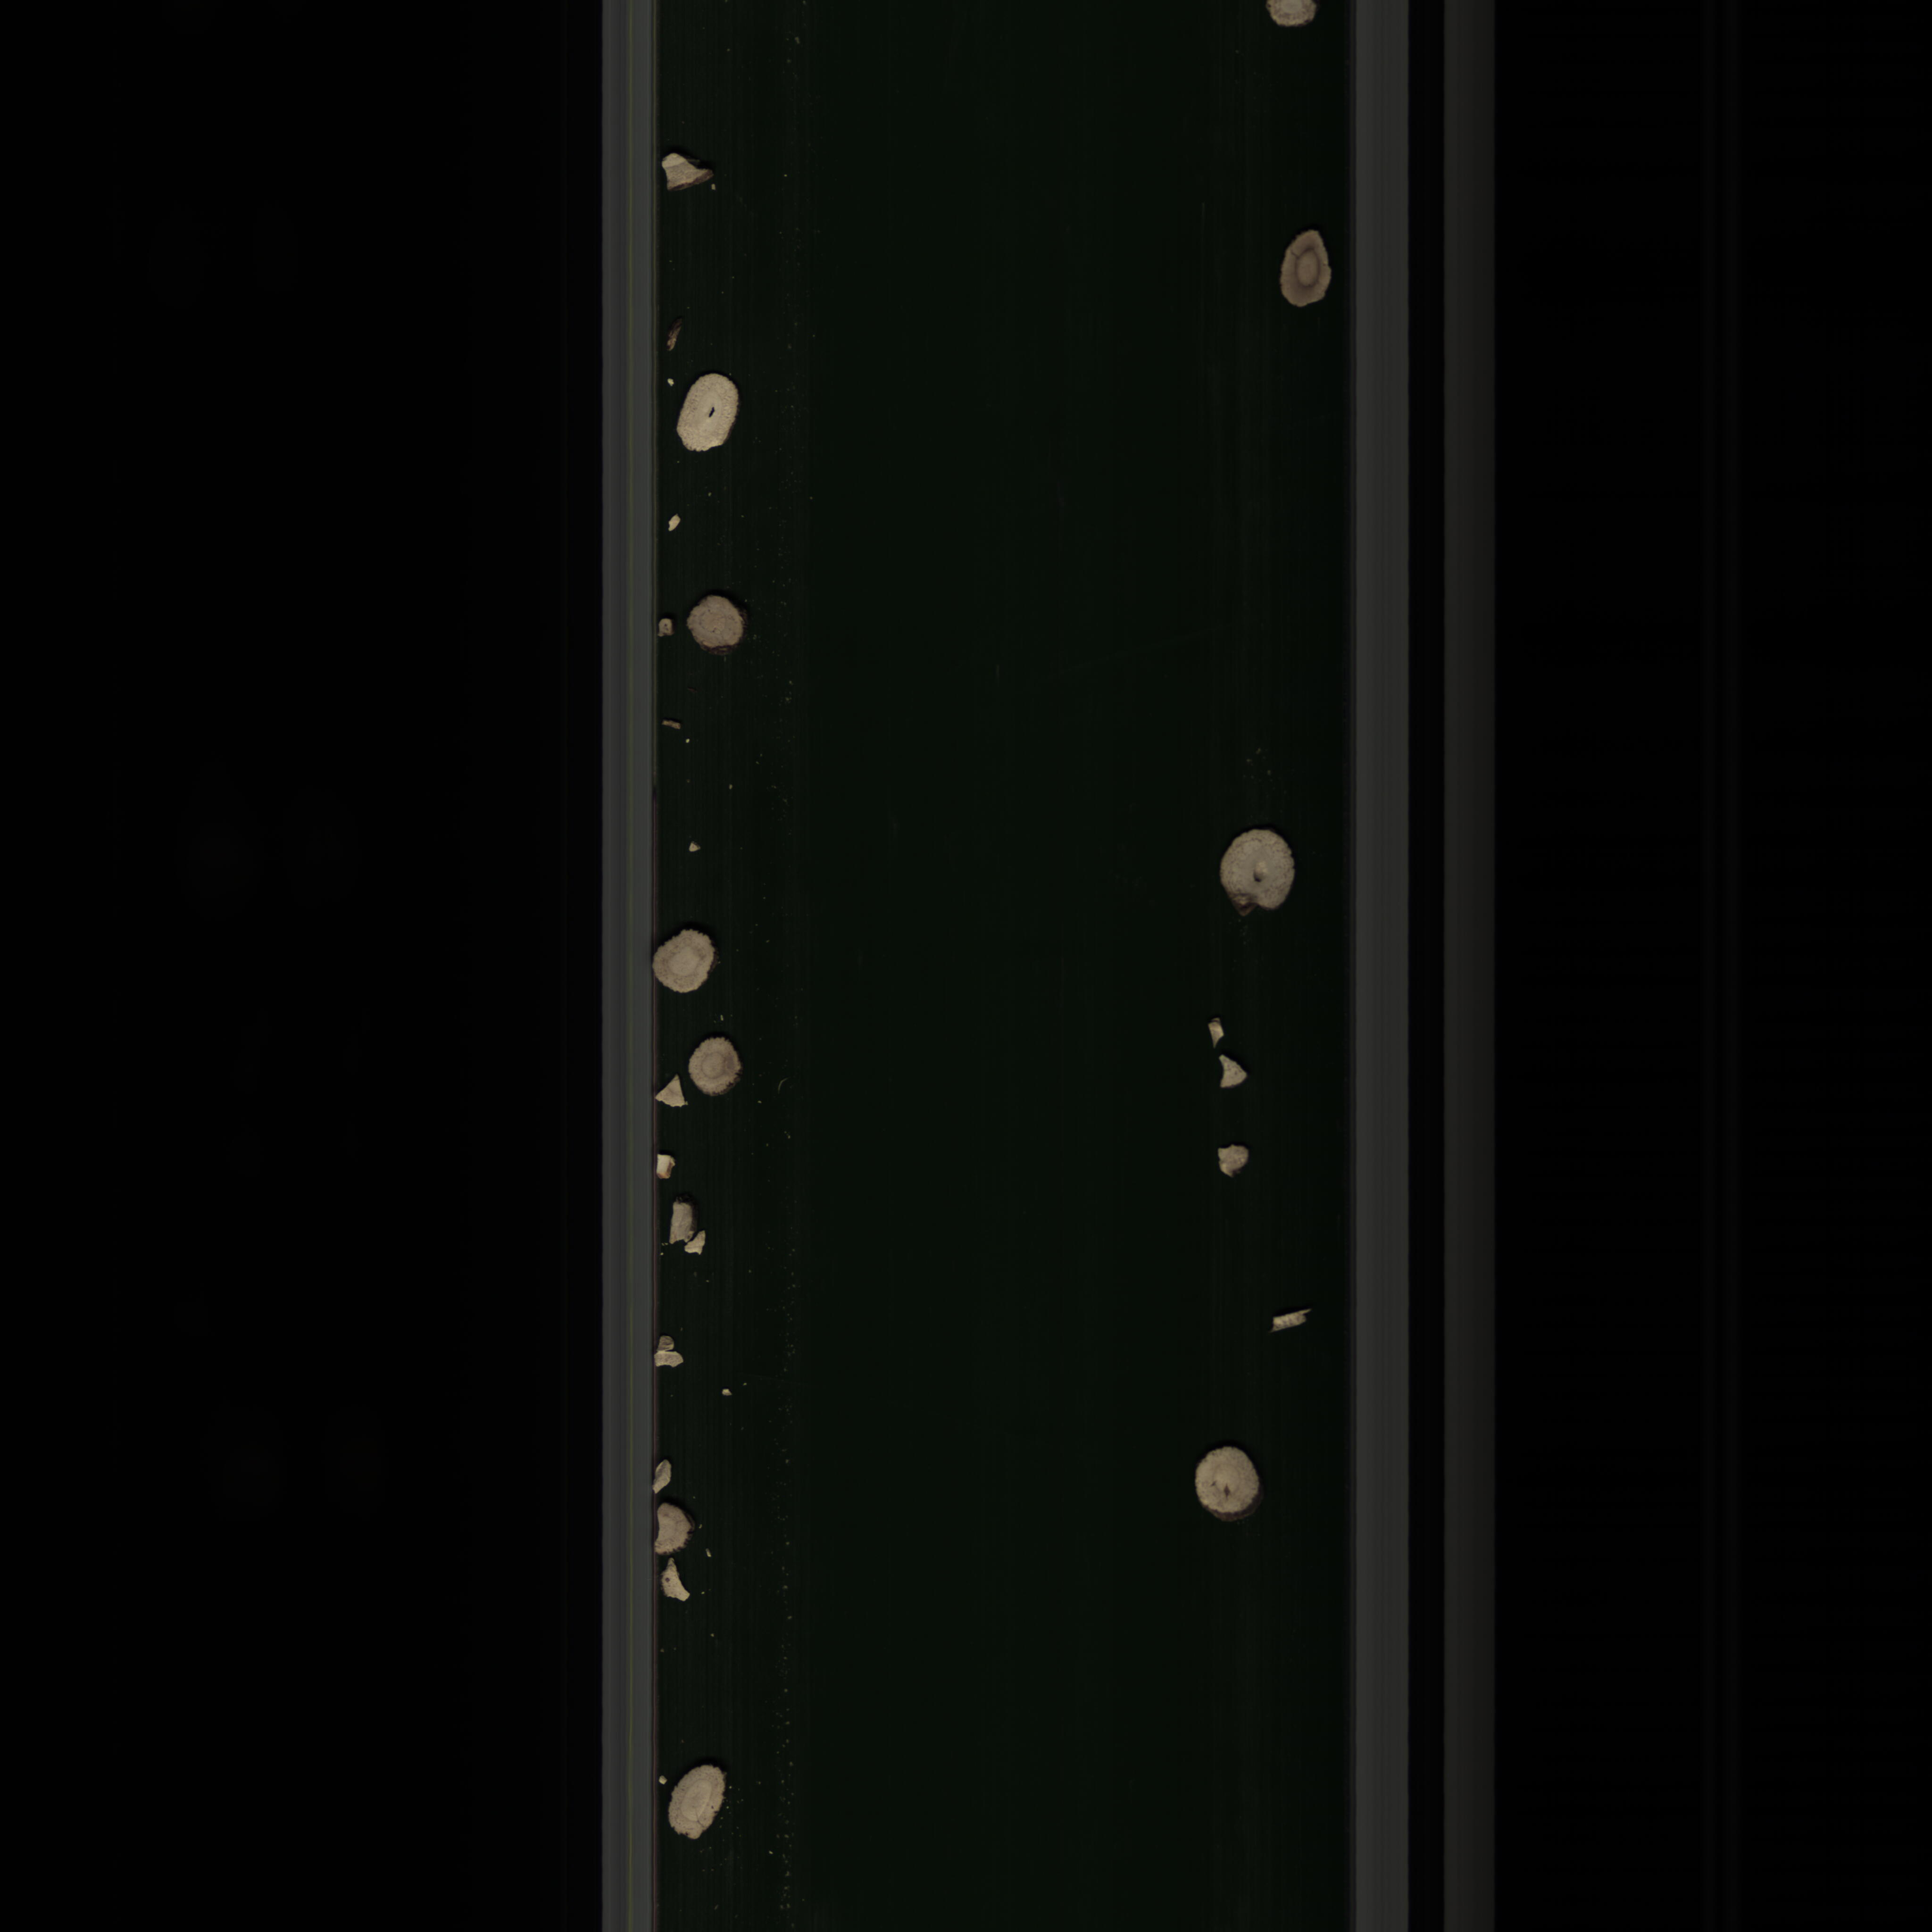debris: (665, 1753, 732, 1845), (660, 147, 731, 193), (656, 1504, 706, 1568), (663, 1198, 709, 1263), (651, 1559, 701, 1610), (1212, 1056, 1267, 1102), (648, 1332, 686, 1384), (1261, 1304, 1316, 1338), (649, 1070, 690, 1109), (1196, 1007, 1231, 1047), (1214, 1143, 1249, 1180), (651, 1148, 685, 1187), (653, 1460, 681, 1491)
moldy: (1270, 221, 1334, 320)
